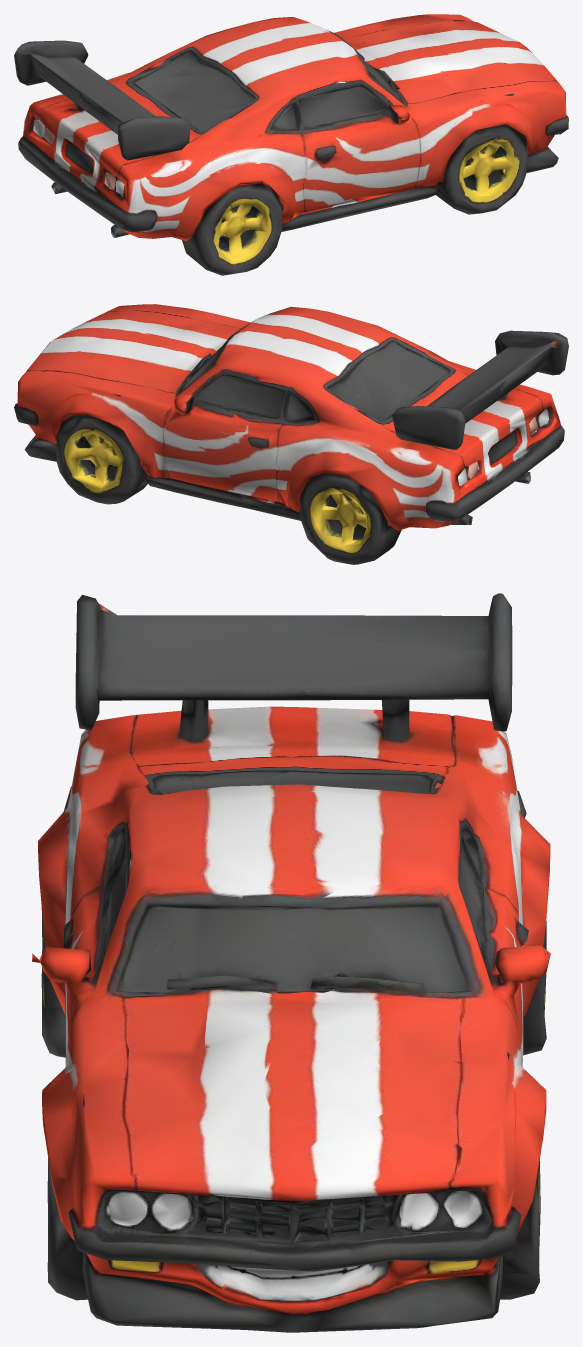
Rendered from car_cane.glb.
The picture shows the model from 3 angles, top to bottom: view 1: azimuth 30°, elevation 25°; view 2: azimuth 150°, elevation 25°; view 3: azimuth 270°, elevation 25°; orthographic projection. The views are drawn at different scales.
Parts seen in each view (by area): view 1: tripo_node_bfc008c4-b125-4ebc-8e5e-3838b48f52dc; view 2: tripo_node_bfc008c4-b125-4ebc-8e5e-3838b48f52dc; view 3: tripo_node_bfc008c4-b125-4ebc-8e5e-3838b48f52dc.
Boxes of the visible parts, left/top/right/bottom form: tripo_node_bfc008c4-b125-4ebc-8e5e-3838b48f52dc: left=14, top=14, right=568, bottom=275; tripo_node_bfc008c4-b125-4ebc-8e5e-3838b48f52dc: left=14, top=304, right=568, bottom=564; tripo_node_bfc008c4-b125-4ebc-8e5e-3838b48f52dc: left=32, top=593, right=550, bottom=1332.
Bounding box in the file's own units: 1 × 0.3579 × 0.4844.
Materials: 1 (1 with a texture image).
